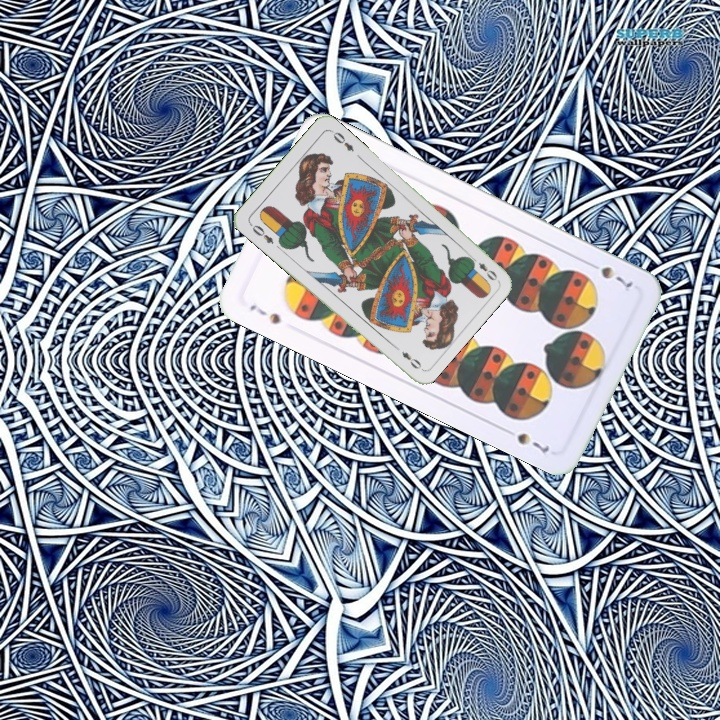EO: (466, 252, 500, 283), (246, 219, 276, 247)
S7: (583, 257, 636, 295), (245, 300, 284, 327)
